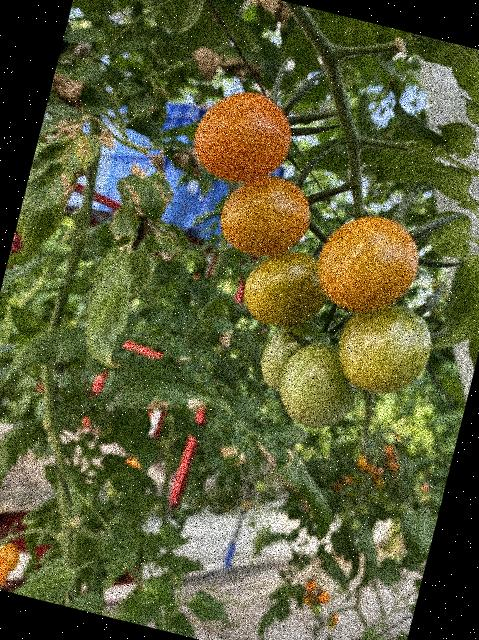l_green: (328, 292, 440, 405), (270, 337, 369, 439), (255, 313, 343, 403)
l_half_ripened: (309, 204, 429, 323), (185, 81, 301, 193), (212, 165, 319, 268), (236, 239, 336, 337)
